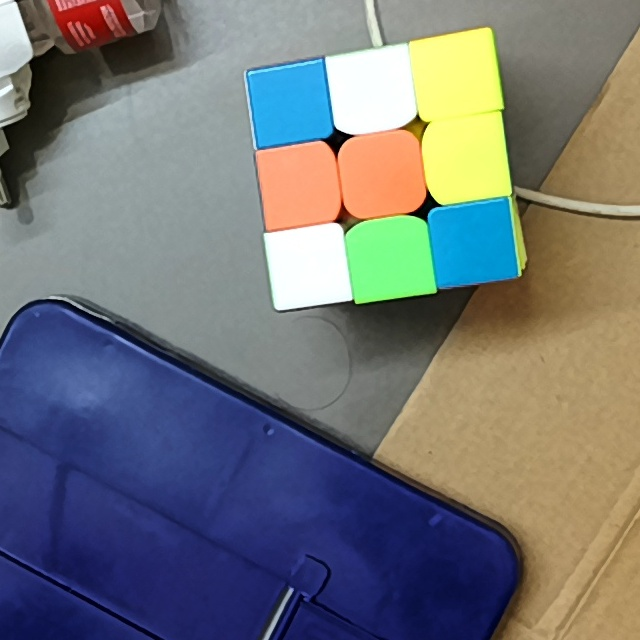tile: (430, 123, 503, 193), (350, 143, 418, 211), (439, 212, 509, 278), (264, 151, 331, 219), (356, 227, 425, 293), (255, 74, 325, 136), (424, 42, 487, 110), (275, 236, 340, 301), (340, 58, 401, 122)
